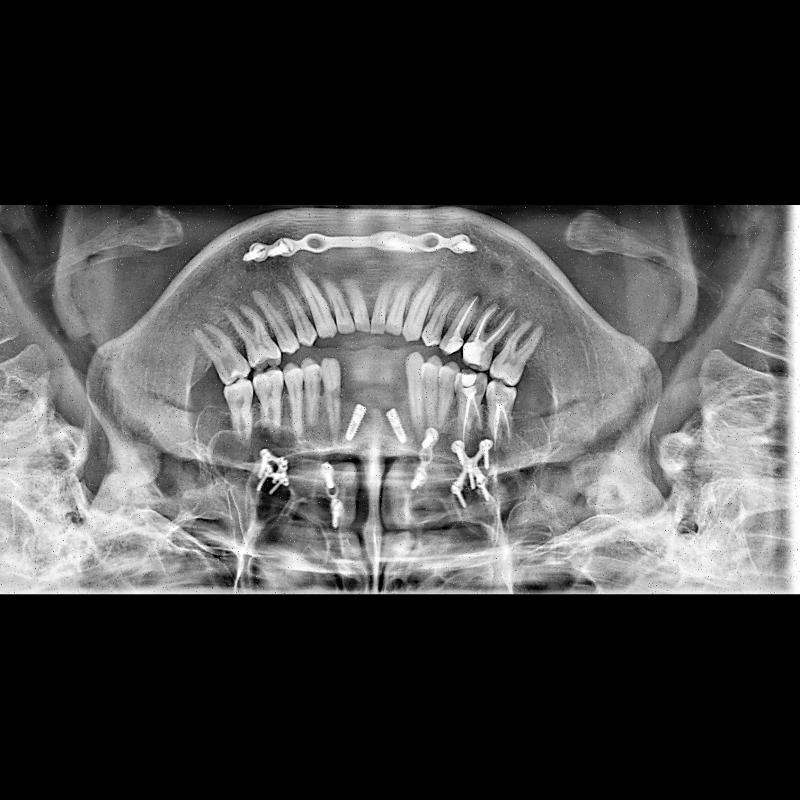osstem: (386, 404, 410, 448), (344, 402, 368, 444)
